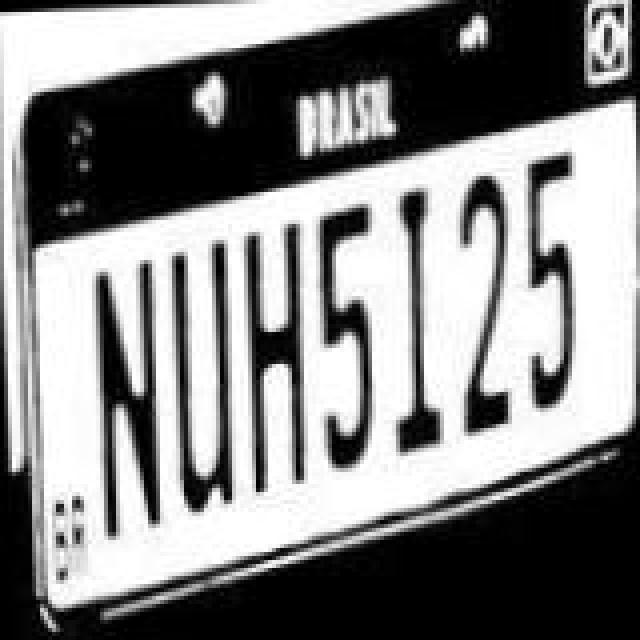2: (442, 160, 522, 448)
5: (308, 192, 384, 480), (518, 146, 590, 418)
H: (234, 212, 318, 504)
I: (376, 174, 452, 466)
N: (88, 252, 172, 564)
U: (158, 230, 242, 534)
